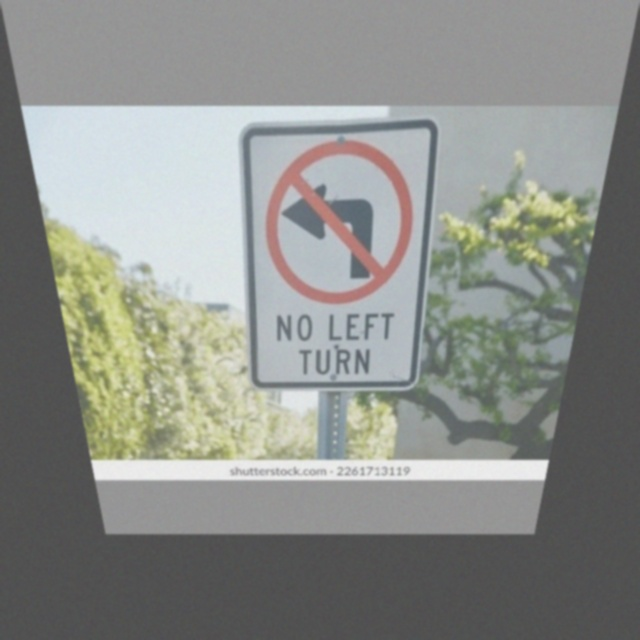Left_Turn_Prohibited: (255, 137, 422, 308)
